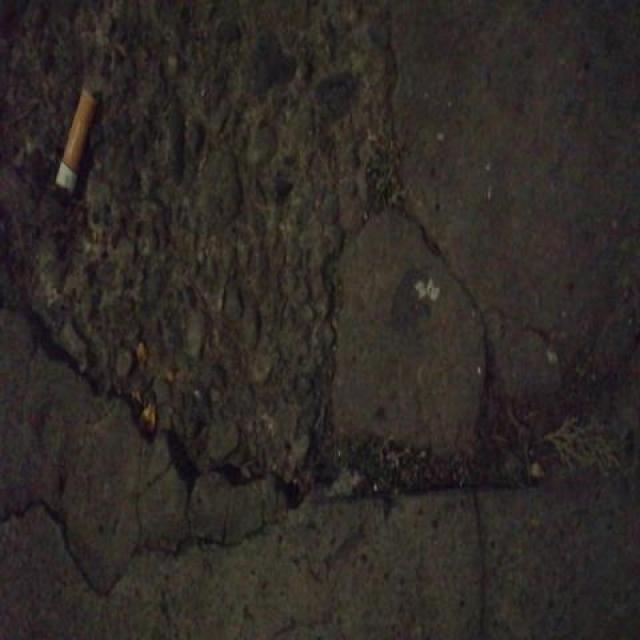non-organic waste: (52, 82, 104, 198)
